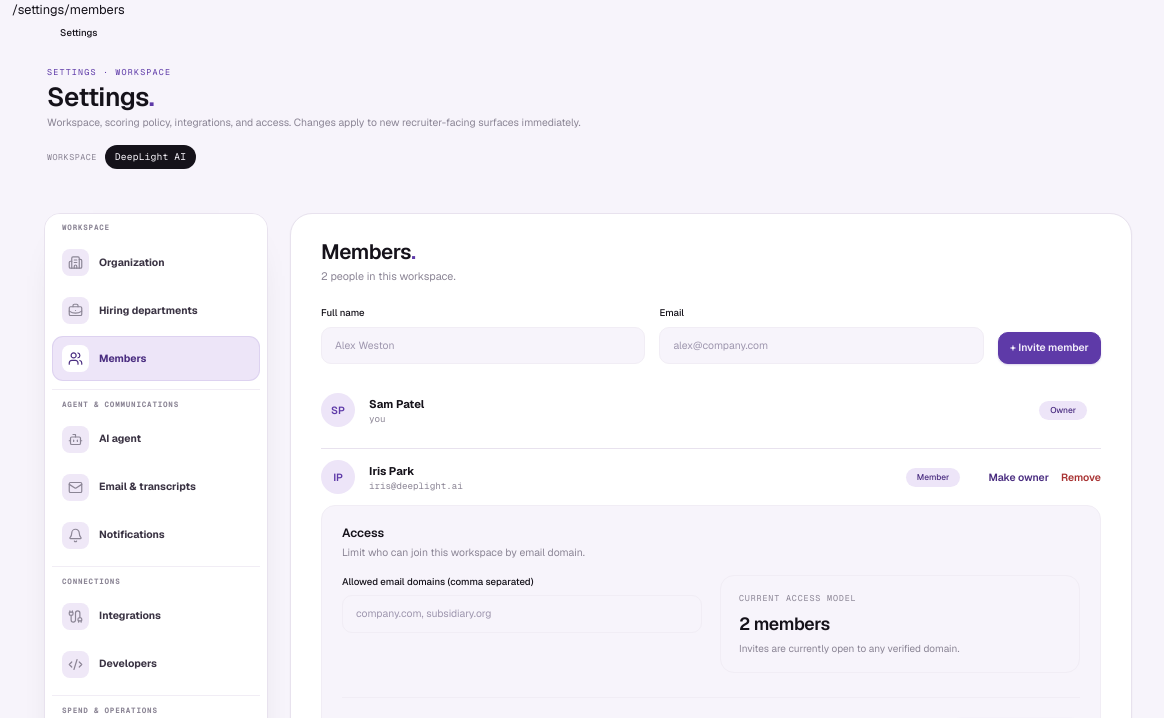
Test case: SettingsPage recruiter surface › removes an active member (not the current user) after inline confirm
Expected: the text "Iris Park" is shown, [369,464,414,478]
// Only the non-self active row exposes a Remove action.
Click the button "Remove".
click(1081, 477)  # box [1061,463,1101,491]
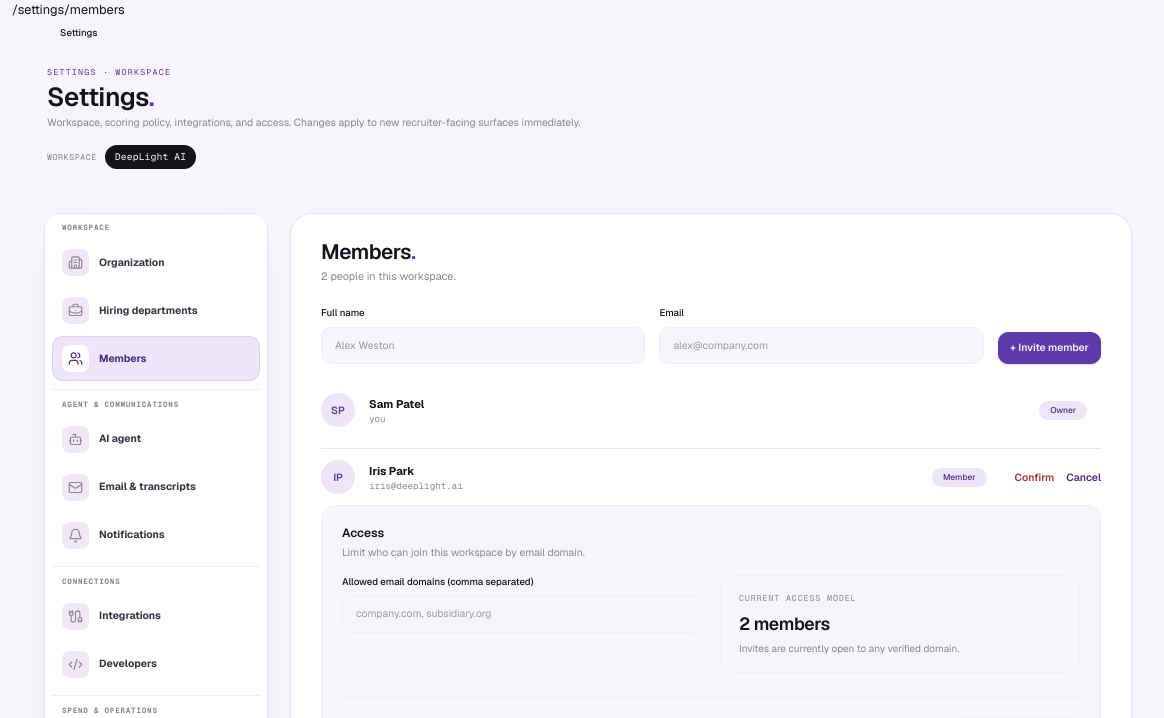
Click the button "Confirm".
click(1034, 477)  # box [1015,463,1054,491]
(page scrolled)
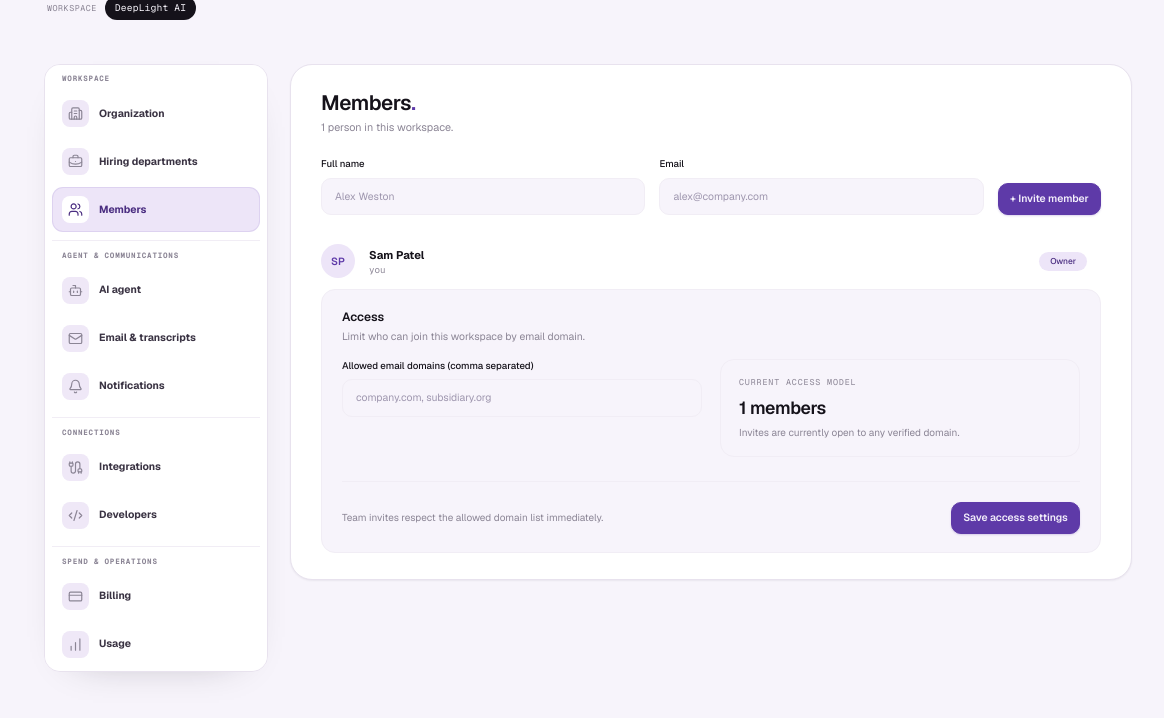
Expected: the text "Iris Park" is gone
